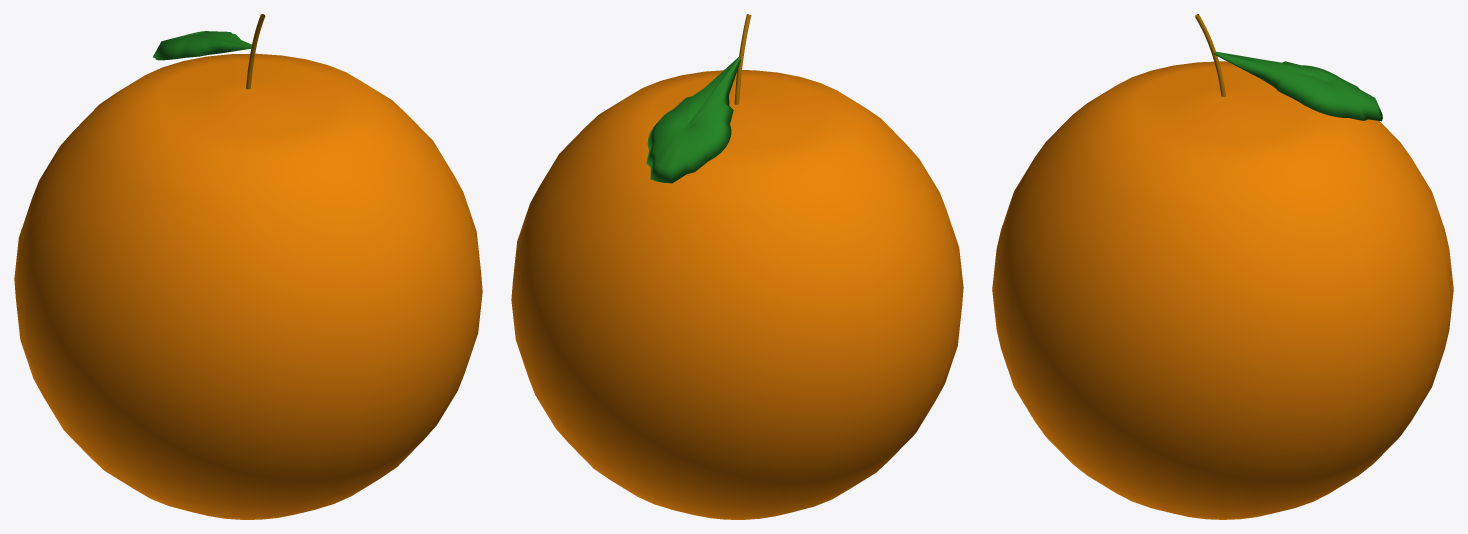
The model's file is Orange.fbx.
The picture shows the model from 3 angles, left to right: view 1: azimuth 30°, elevation 25°; view 2: azimuth 150°, elevation 25°; view 3: azimuth 270°, elevation 25°; orthographic projection. The views are drawn at different scales.
Parts seen in each view (by area): view 1: Sphere_001; view 2: Sphere_001; view 3: Sphere_001.
Boxes of the visible parts, <box> form: Sphere_001: <box>14,31,482,519</box>; Sphere_001: <box>511,57,963,519</box>; Sphere_001: <box>992,51,1453,519</box>.
Bounding box in the file's own units: 2 × 2.32 × 2.
